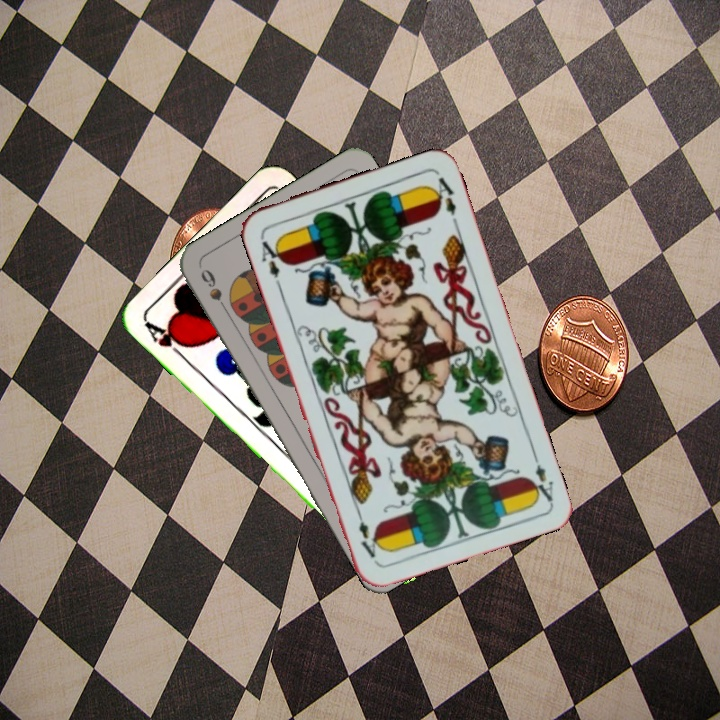EA: (526, 447, 556, 505), (256, 232, 286, 289)
HA: (141, 318, 191, 364)
S9: (196, 264, 233, 319)
